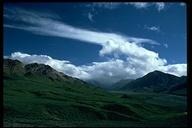cloud: (57, 26, 167, 66)
mountain: (6, 58, 184, 121)
sky: (9, 6, 181, 54)
